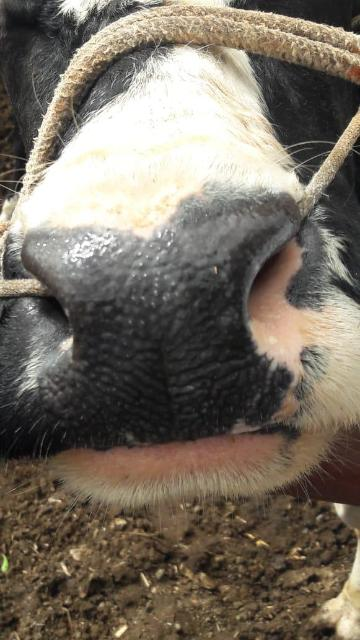Muzzle: (65, 249, 258, 431)
